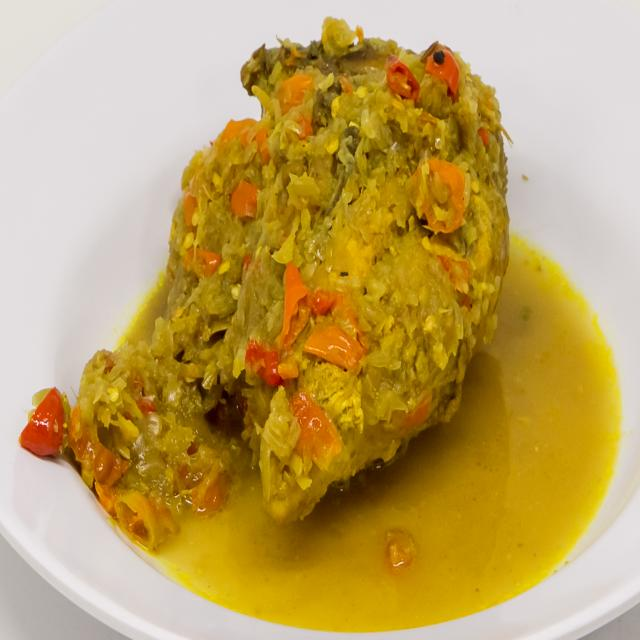Ayam-Betutu: (83, 9, 569, 533)
